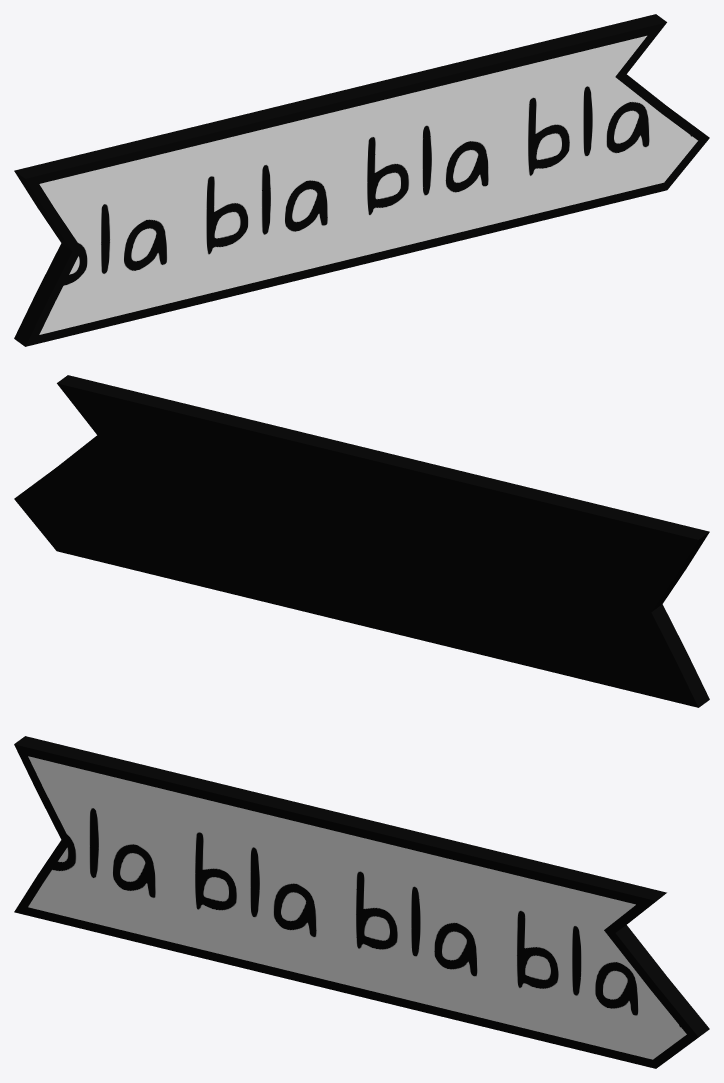
Rendered from mdl_poland_poempieces_13.gltf.
3 renders of one model, top to bottom at view 1: azimuth 30°, elevation 25°; view 2: azimuth 150°, elevation 25°; view 3: azimuth 330°, elevation 25°, orthographic.
Parts seen in each view (by area): view 1: Plane.015; view 2: Plane.015; view 3: Plane.015.
Boxes of the visible parts, x1,y1,x2,y2 form: Plane.015: (14,14,709,346); Plane.015: (14,375,709,707); Plane.015: (14,736,709,1068).
Size of the model in its own units: 1.07 by 0.25 by 0.0304.
Materials: 2 (2 with a texture image).
